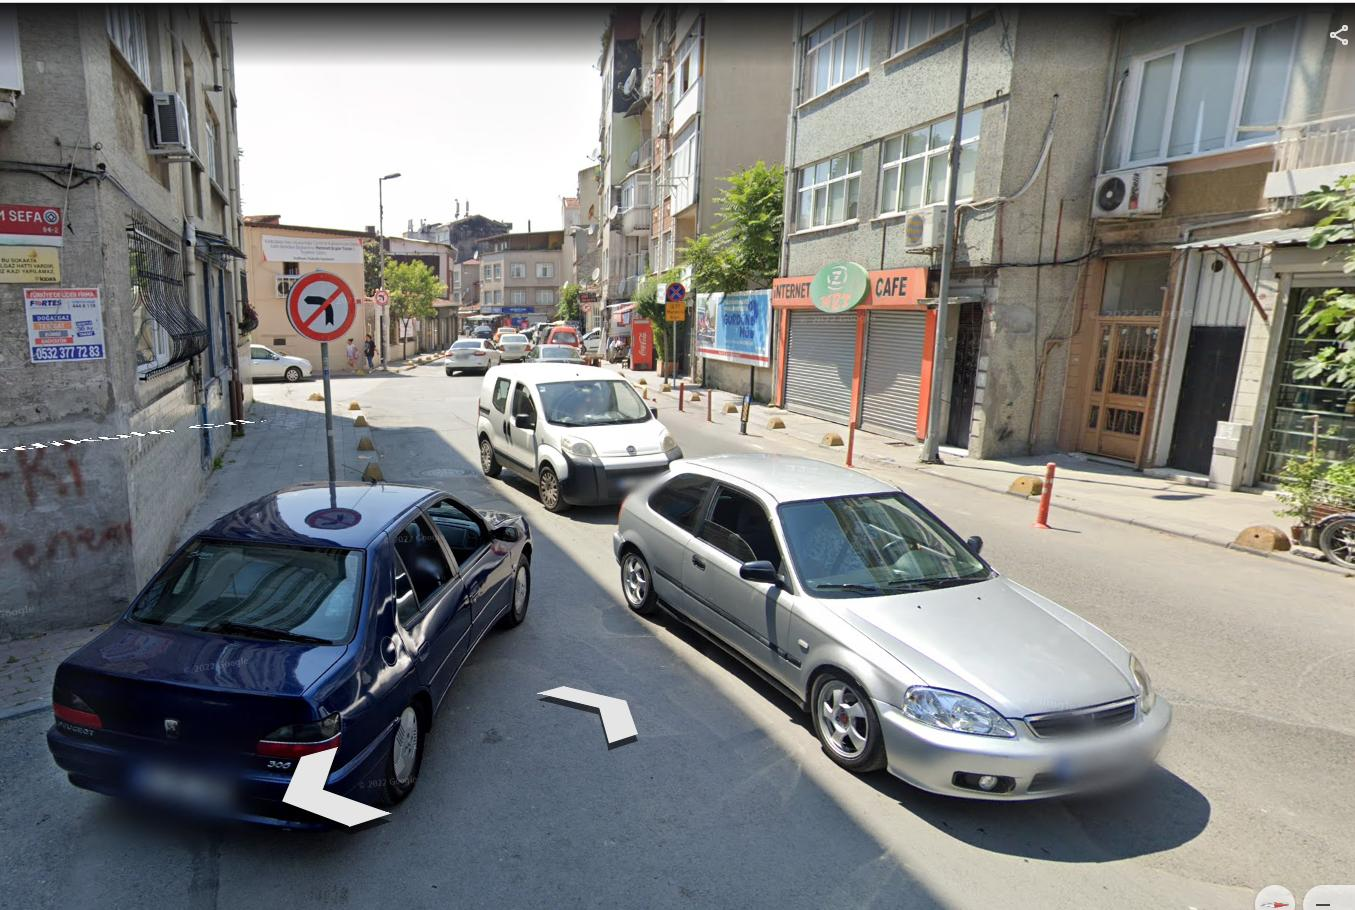leftturnsareforbidden: (291, 271, 354, 340), (375, 291, 389, 305)
